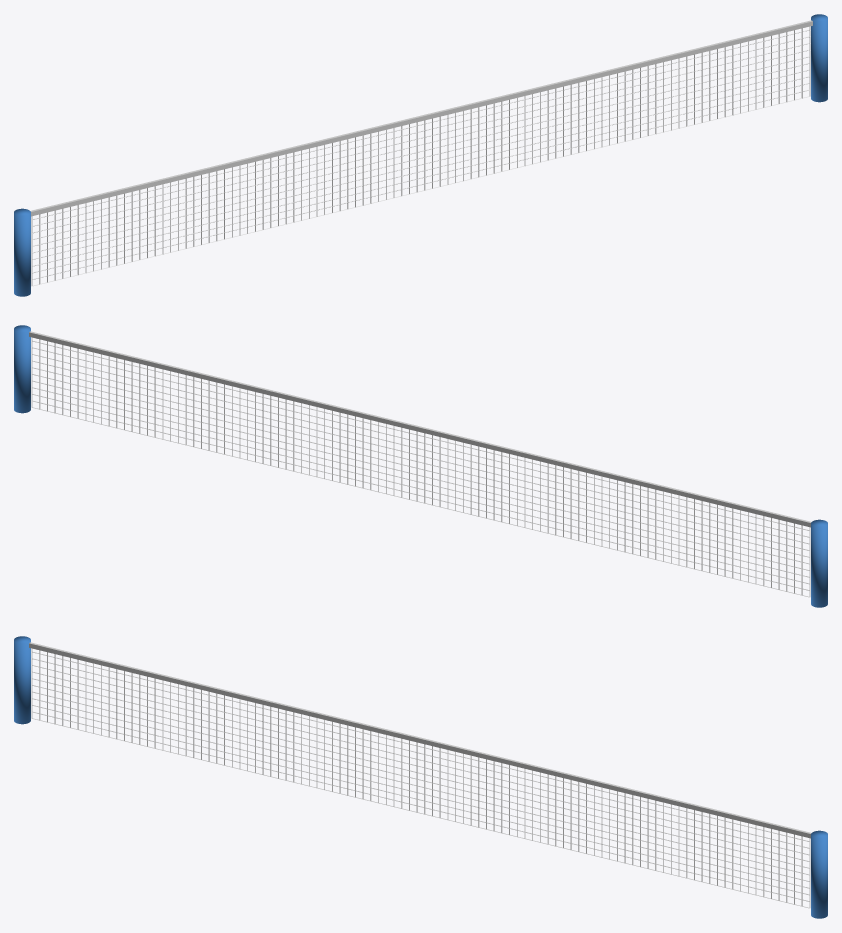
The model's file is net.glb.
3 views of the same model, one above another, from view 1: azimuth 30°, elevation 25°; view 2: azimuth 150°, elevation 25°; view 3: azimuth 330°, elevation 25° (orthographic).
Visible parts, largest first — view 1: 平面.007, 立方体, 円柱; view 2: 平面.007, 立方体, 円柱; view 3: 平面.007, 立方体, 円柱.
Part boxes in pixels (x1,y1,x2,y2): 平面.007: (31, 26, 810, 286); 立方体: (30, 20, 812, 216); 円柱: (14, 14, 827, 296); 平面.007: (31, 337, 810, 597); 立方体: (29, 331, 811, 527); 円柱: (14, 325, 827, 607); 平面.007: (31, 648, 810, 908); 立方体: (29, 642, 811, 838); 円柱: (14, 636, 827, 918).
Bounding box in the file's own units: 9.13 × 0.8678 × 0.1652.
